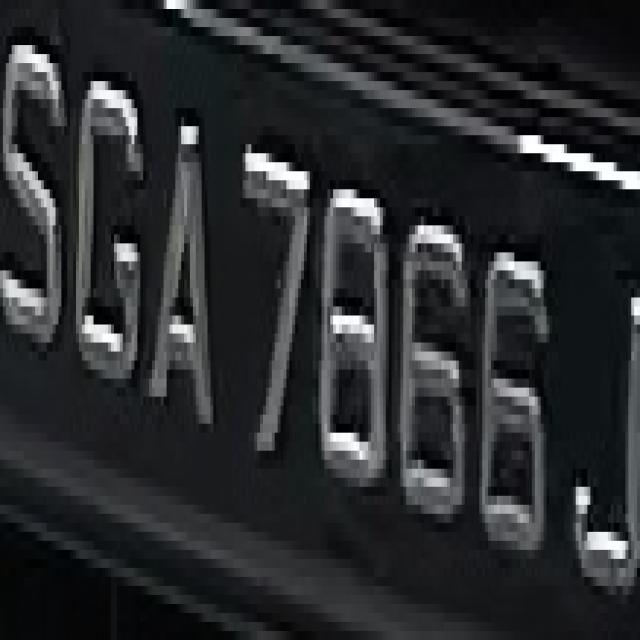6: (394, 162, 474, 550), (476, 216, 558, 586)
7: (236, 90, 312, 478)
8: (310, 135, 397, 514)
A: (146, 72, 225, 478)
G: (70, 45, 149, 397)
J: (561, 216, 640, 622)
S: (6, 18, 67, 397)
